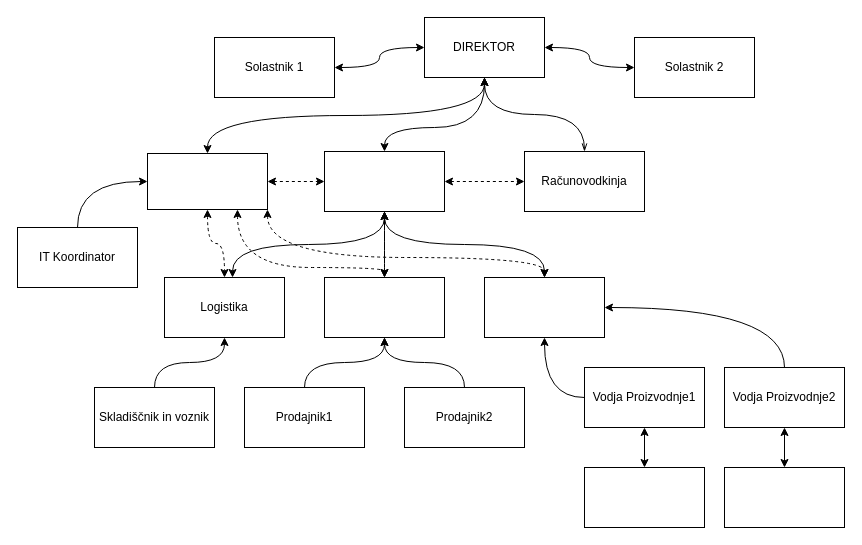
This 862x545 diagram has some shape labels left out. Here are the shapes that lost their labels. From the top down, the centre of each, then its label:
At point 207,181: "IT odelek".
At point 384,181: "Poslovna sekretarka".
At point 384,307: "Prodajni oddelek".
At point 544,307: "Proizvodnja".
At point 644,497: "Zaposleni1".
At point 784,497: "Zaposleni2".
